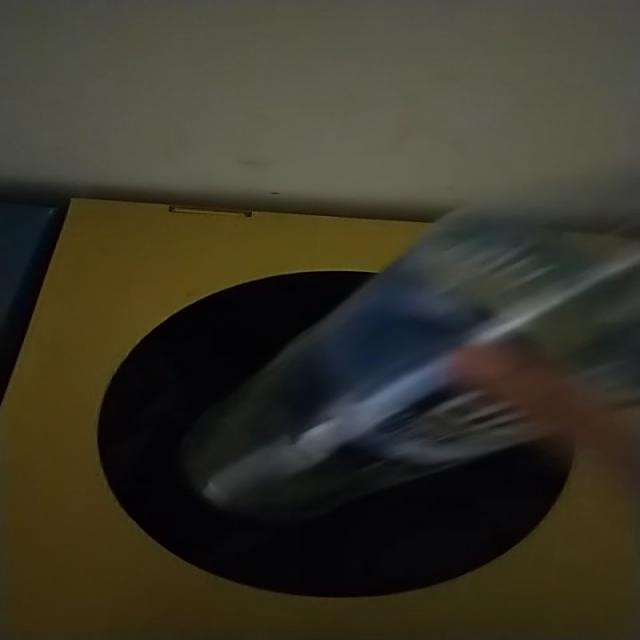plastic: (184, 210, 637, 520)
